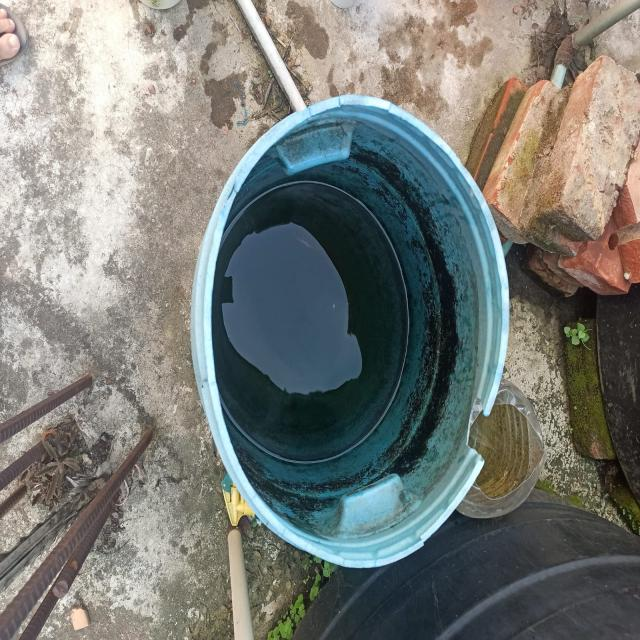Breeding Place: (170, 76, 543, 595), (457, 350, 552, 550)
